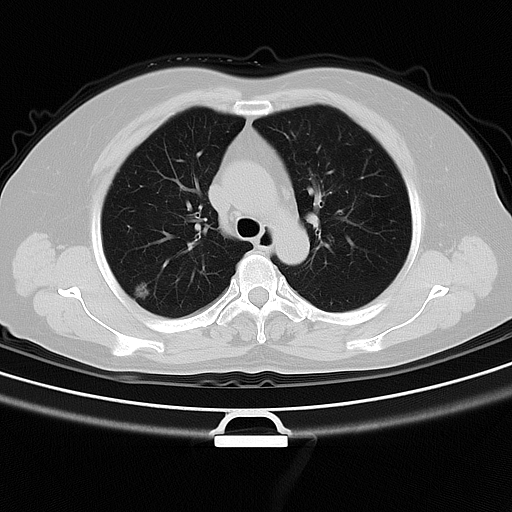nodule: (133, 281, 150, 300)
